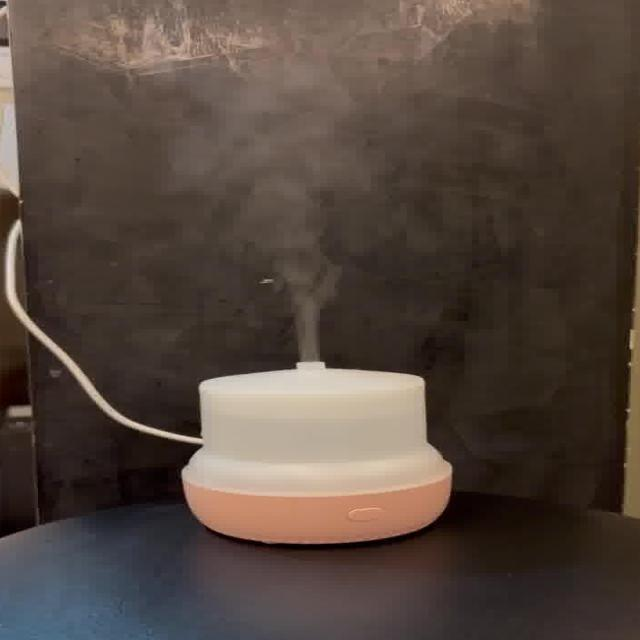fire: (211, 139, 377, 360)
